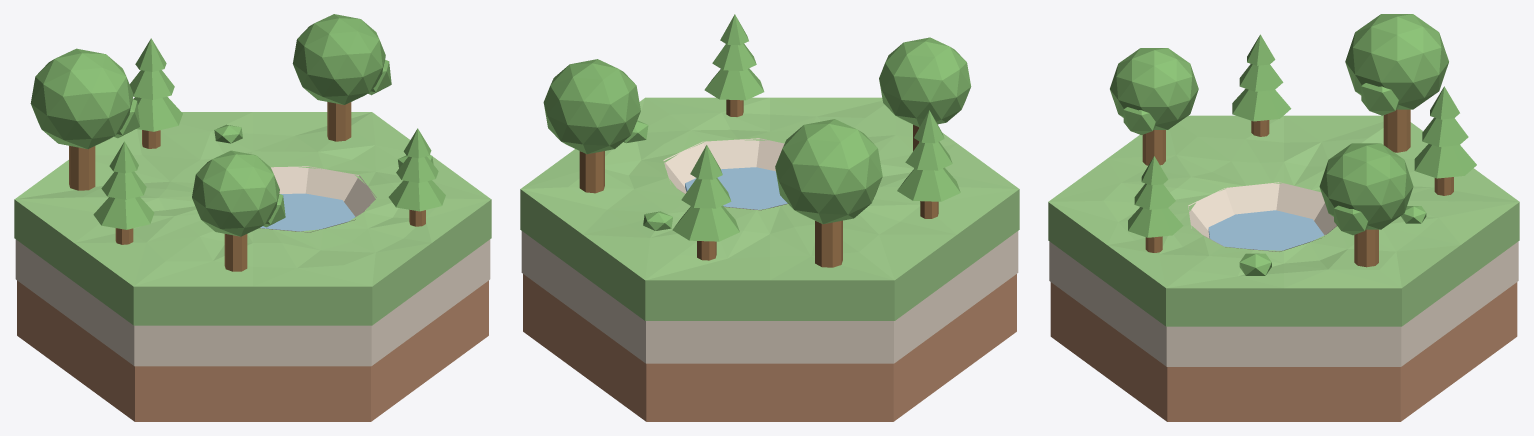
Rendered from paradise-v3.glb.
The picture shows the model from 3 angles, left to right: view 1: azimuth 30°, elevation 25°; view 2: azimuth 150°, elevation 25°; view 3: azimuth 270°, elevation 25°; orthographic projection. The views are drawn at different scales.
Parts seen in each view (by area): view 1: GRASS_top, HEX_brown, HEX_cream, HEX_grass_side, T0_crown, T2_crown, T4_crown, POND_walls, POND_water, T3_tier_0, T5_tier_0, T1_tier_0 (+10 smaller); view 2: GRASS_top, HEX_brown, HEX_cream, HEX_grass_side, T0_crown, T2_crown, T4_crown, POND_walls, POND_water, T1_tier_0, T3_tier_0, T5_tier_0 (+9 smaller); view 3: GRASS_top, HEX_brown, HEX_cream, HEX_grass_side, T0_crown, T2_crown, T4_crown, POND_walls, POND_water, T1_tier_0, T3_tier_0, T5_tier_0 (+13 smaller).
Part boxes in pixels (box(x1,y1,x2,y2)): GRASS_top: box(14, 112, 491, 286); HEX_brown: box(17, 280, 488, 421); HEX_cream: box(15, 239, 490, 366); HEX_grass_side: box(14, 199, 491, 325); T0_crown: box(30, 48, 133, 149); T2_crown: box(292, 14, 385, 104); T4_crown: box(192, 150, 279, 236); POND_walls: box(259, 166, 376, 232); POND_water: box(260, 193, 355, 231); T3_tier_0: box(93, 196, 154, 229); T5_tier_0: box(388, 180, 445, 211); T1_tier_0: box(133, 96, 182, 131); GRASS_top: box(521, 97, 1018, 280); HEX_brown: box(523, 274, 1016, 421); HEX_cream: box(521, 167, 1018, 363); HEX_grass_side: box(520, 171, 1019, 320); T0_crown: box(775, 119, 882, 224); T2_crown: box(543, 59, 640, 154); T4_crown: box(879, 37, 971, 127); POND_walls: box(663, 138, 787, 210); POND_water: box(685, 167, 787, 209); T1_tier_0: box(672, 205, 739, 241); T3_tier_0: box(897, 167, 960, 201); T5_tier_0: box(704, 68, 764, 100); GRASS_top: box(1048, 115, 1519, 288); HEX_brown: box(1050, 282, 1517, 421); HEX_cream: box(1049, 241, 1518, 366); HEX_grass_side: box(1048, 202, 1519, 326); T0_crown: box(1345, 14, 1448, 109); T2_crown: box(1319, 143, 1413, 229); T4_crown: box(1110, 48, 1198, 129); POND_walls: box(1188, 182, 1336, 251); POND_water: box(1208, 210, 1324, 250); T1_tier_0: box(1414, 144, 1476, 178); T3_tier_0: box(1232, 88, 1291, 121); T5_tier_0: box(1128, 207, 1183, 237).
Size of the model in its own units: 1.73 by 1.24 by 2.
